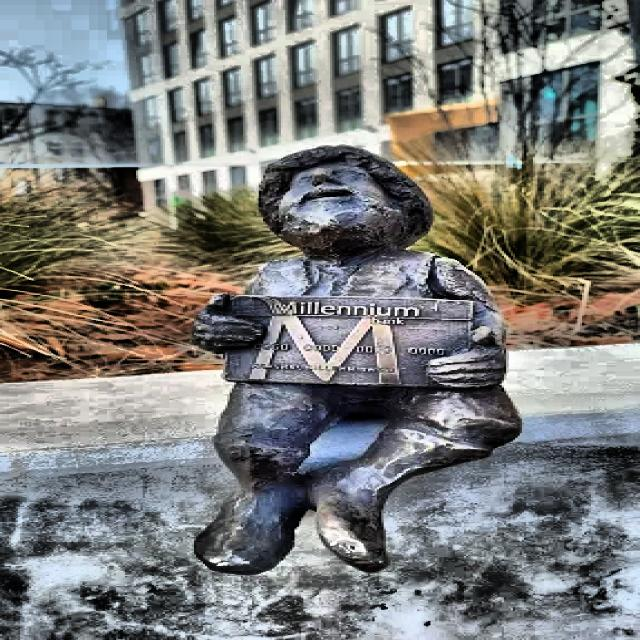Krasnal_Millenniowski: (194, 146, 520, 577)
